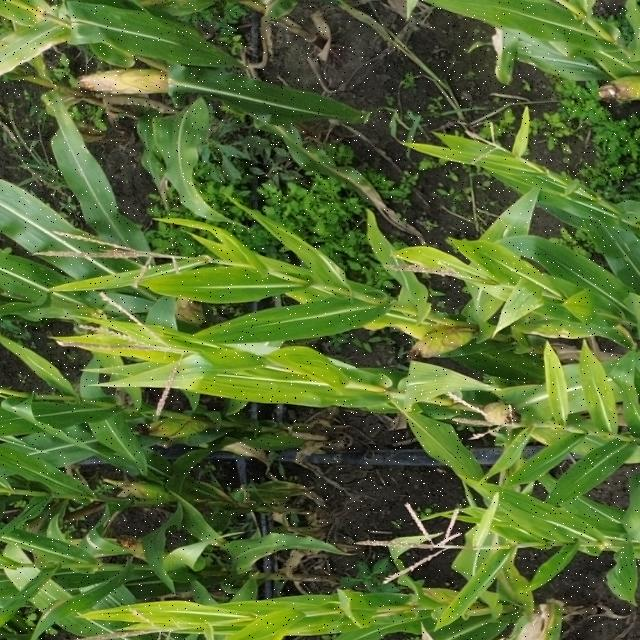gray-leaf-spot: (3, 27, 59, 61)
northern-leaf-blight: (484, 538, 523, 596), (522, 608, 570, 640), (26, 506, 60, 550), (76, 524, 110, 550)
southern-leaf-blight: (499, 284, 540, 322), (538, 323, 606, 340)
